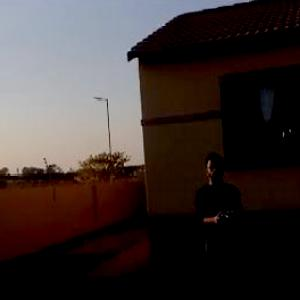follow: (190, 143, 269, 299)
